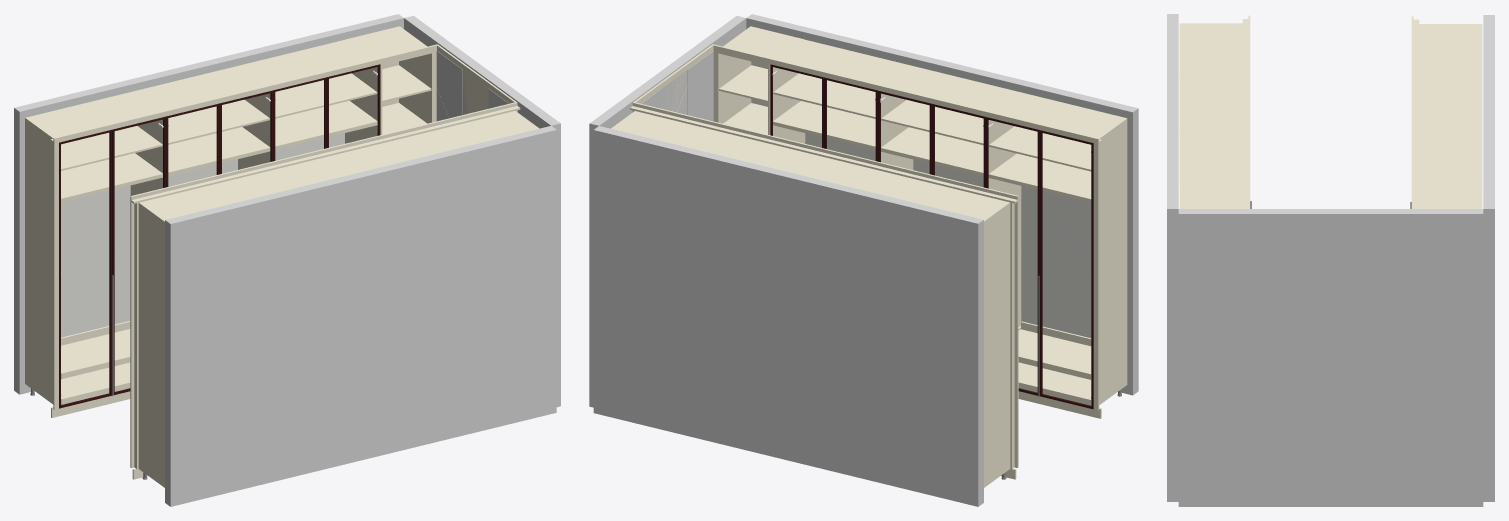
File: SZGARDROB.glb
The picture shows the model from 3 angles, left to right: view 1: azimuth 30°, elevation 25°; view 2: azimuth 150°, elevation 25°; view 3: azimuth 270°, elevation 25°; orthographic projection. The views are drawn at different scales.
Visible parts, largest first — view 1: 3DGeom-3, 3DGeom-42, 3DGeom-1, 3DGeom-25, 3DGeom-546, 3DGeom-2, 3DGeom-363, 3DGeom-378, 3DGeom-393, 3DGeom-784, 3DGeom-799, 3DGeom-707 (+37 smaller); view 2: 3DGeom-1, 3DGeom-563, 3DGeom-3, 3DGeom-546, 3DGeom-25, 3DGeom-2, 3DGeom-784, 3DGeom-799, 3DGeom-707, 3DGeom-393, 3DGeom-378, 3DGeom-363 (+35 smaller); view 3: 3DGeom-2, 3DGeom-3, 3DGeom-1, 3DGeom-799, 3DGeom-363, 3DGeom-378, 3DGeom-393, 3DGeom-707, 3DGeom-784, 3DGeom-327, 3DGeom-725, 3DGeom-410 (+3 smaller).
Boxes of the visible parts, left/top/right/bottom form: 3DGeom-3: left=165, top=126, right=556, bottom=506; 3DGeom-42: left=61, top=185, right=130, bottom=337; 3DGeom-1: left=14, top=14, right=403, bottom=394; 3DGeom-25: left=25, top=177, right=53, bottom=402; 3DGeom-546: left=138, top=262, right=164, bottom=485; 3DGeom-2: left=404, top=15, right=560, bottom=407; 3DGeom-363: left=27, top=92, right=157, bottom=137; 3DGeom-378: left=134, top=66, right=265, bottom=111; 3DGeom-393: left=242, top=40, right=372, bottom=85; 3DGeom-784: left=356, top=124, right=484, bottom=167; 3DGeom-799: left=249, top=150, right=376, bottom=193; 3DGeom-707: left=141, top=177, right=268, bottom=219; 3DGeom-1: left=593, top=126, right=983, bottom=506; 3DGeom-563: left=1021, top=186, right=1091, bottom=337; 3DGeom-3: left=746, top=14, right=1138, bottom=395; 3DGeom-546: left=1099, top=178, right=1127, bottom=403; 3DGeom-25: left=984, top=262, right=1010, bottom=485; 3DGeom-2: left=589, top=16, right=746, bottom=407; 3DGeom-784: left=778, top=40, right=909, bottom=85; 3DGeom-799: left=886, top=66, right=1017, bottom=111; 3DGeom-707: left=994, top=92, right=1124, bottom=137; 3DGeom-393: left=666, top=124, right=793, bottom=167; 3DGeom-378: left=773, top=150, right=900, bottom=193; 3DGeom-363: left=880, top=176, right=1007, bottom=219; 3DGeom-2: left=1178, top=209, right=1483, bottom=506; 3DGeom-3: left=1167, top=14, right=1178, bottom=501; 3DGeom-1: left=1483, top=15, right=1494, bottom=501; 3DGeom-799: left=1180, top=78, right=1242, bottom=131; 3DGeom-363: left=1419, top=25, right=1481, bottom=77; 3DGeom-378: left=1419, top=79, right=1481, bottom=131; 3DGeom-393: left=1419, top=133, right=1481, bottom=185; 3DGeom-707: left=1180, top=24, right=1242, bottom=76; 3DGeom-784: left=1180, top=133, right=1242, bottom=185; 3DGeom-327: left=1419, top=187, right=1482, bottom=208; 3DGeom-725: left=1179, top=187, right=1242, bottom=208; 3DGeom-410: left=1413, top=19, right=1419, bottom=130.
Bounding box in the file's own units: 4.1 × 2.8 × 2.84.
Materials: 16 (6 with a texture image).
